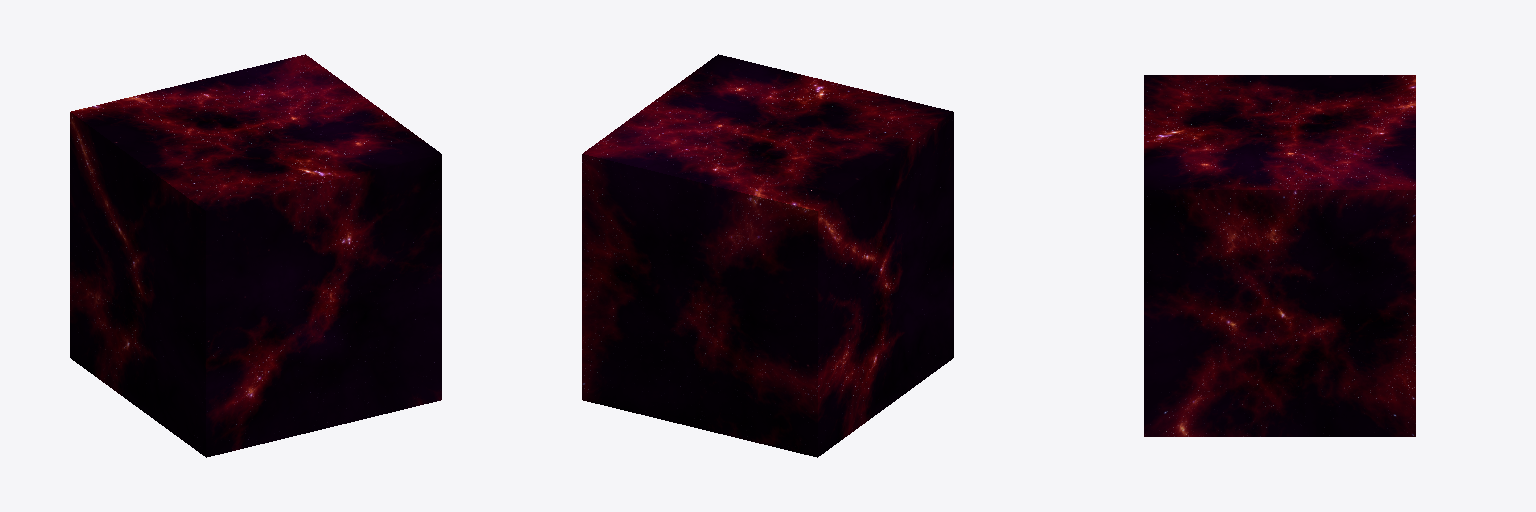
3 renders of one model, left to right at view 1: azimuth 30°, elevation 25°; view 2: azimuth 150°, elevation 25°; view 3: azimuth 270°, elevation 25°, orthographic.
Parts seen in each view (by area): view 1: Box001; view 2: Box001; view 3: Box001.
Part boxes in pixels (bbox=[...]): Box001: bbox=[70, 54, 441, 457]; Box001: bbox=[582, 54, 953, 457]; Box001: bbox=[1144, 75, 1415, 436].
Size of the model in its own units: 1000 by 1000 by 1000.
6 materials, 6 textured.